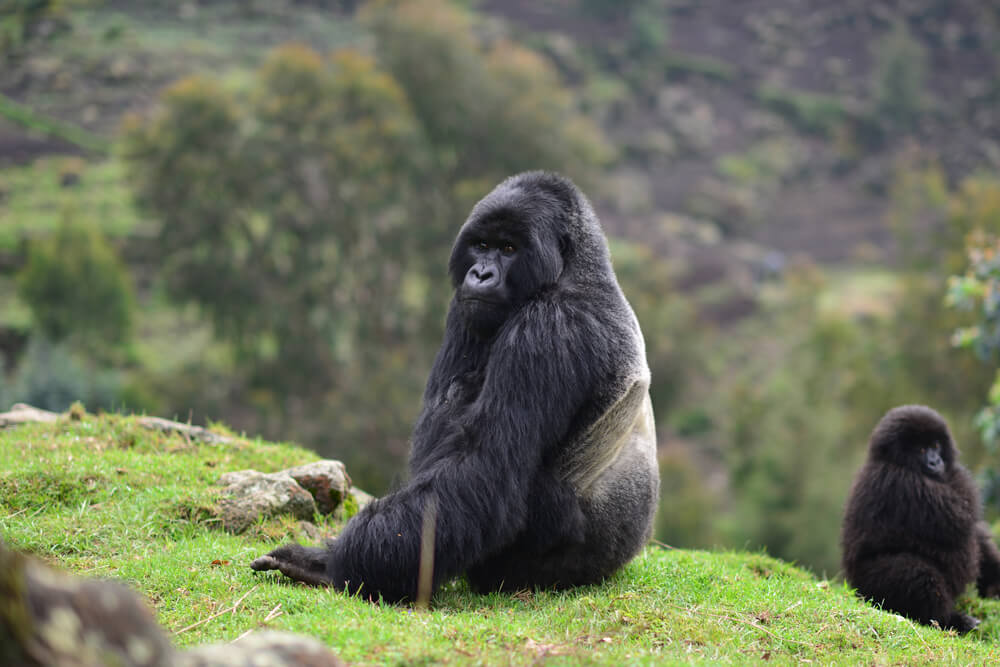Gorilla: (399, 169, 664, 580), (860, 400, 988, 631)
